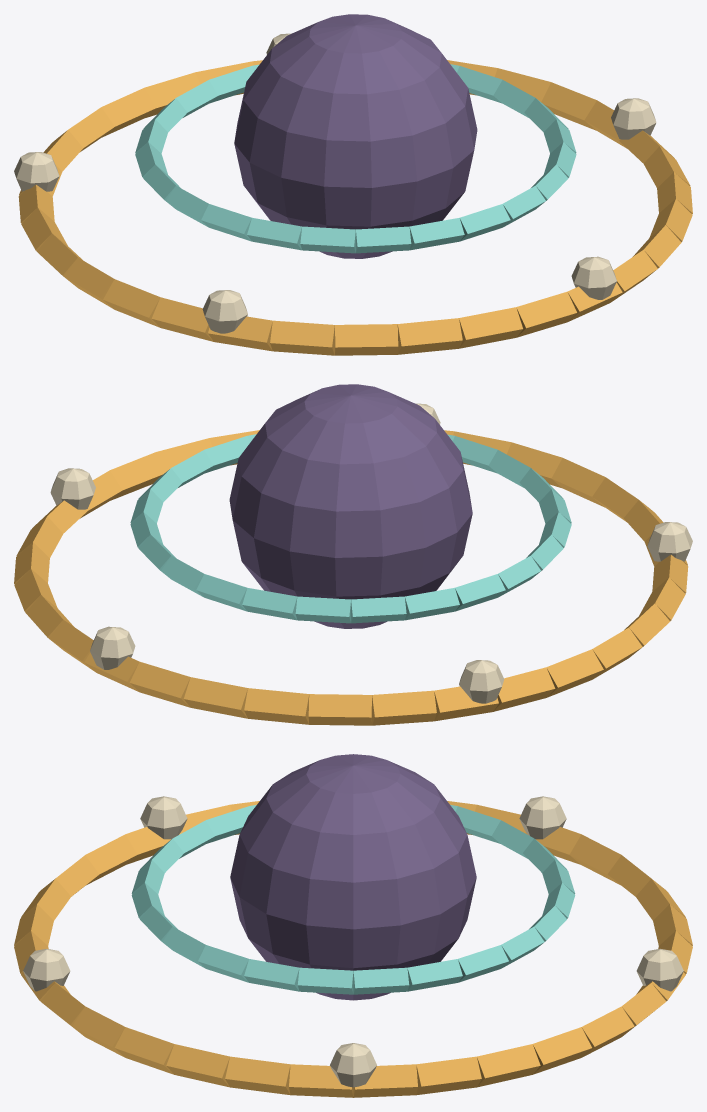
File: space_scene_card_back.glb
3 renders of one model, top to bottom at view 1: azimuth 30°, elevation 25°; view 2: azimuth 150°, elevation 25°; view 3: azimuth 270°, elevation 25°, orthographic.
Parts seen in each view (by area): view 1: FixedDetails, BrassTrim; view 2: FixedDetails, BrassTrim; view 3: FixedDetails, BrassTrim.
Part boxes in pixels (<box>): FixedDetails: <box>14,14,656,333</box>; BrassTrim: <box>18,60,692,355</box>; FixedDetails: <box>50,384,692,703</box>; BrassTrim: <box>14,430,688,725</box>; FixedDetails: <box>23,754,683,1087</box>; BrassTrim: <box>14,801,692,1097</box>.
Bounding box in the file's own units: 0.7229 × 0.26 × 0.7158.
